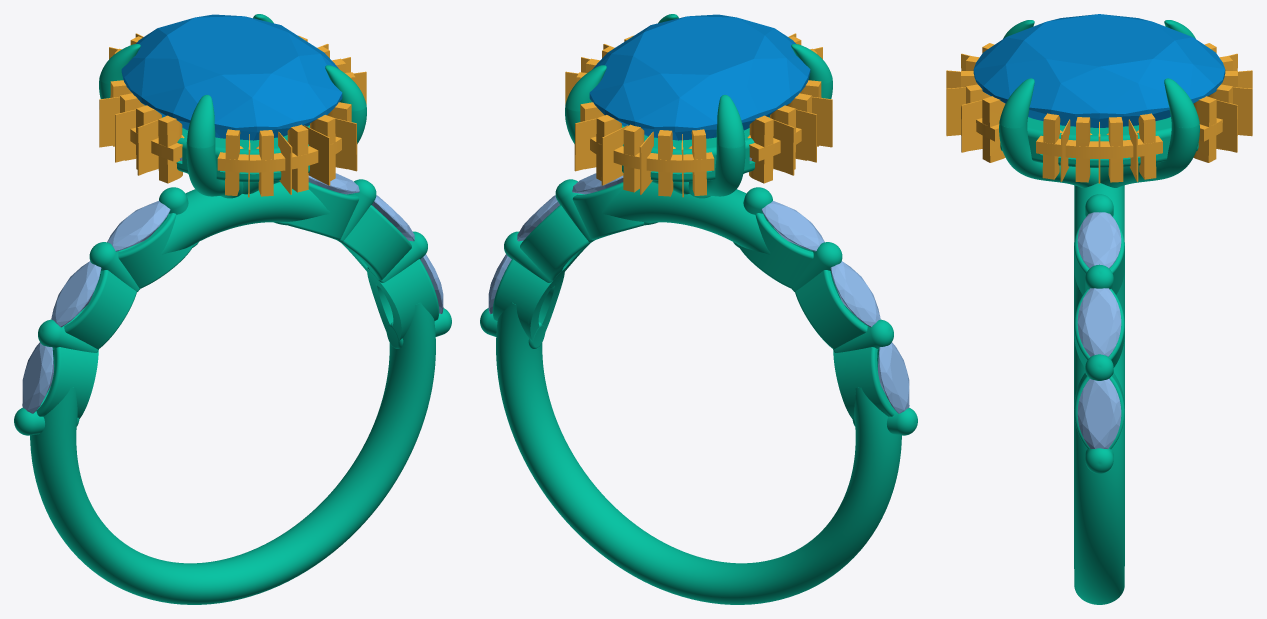
3 renders of one model, left to right at view 1: azimuth 30°, elevation 25°; view 2: azimuth 150°, elevation 25°; view 3: azimuth 270°, elevation 25°, orthographic.
Visible parts, largest first — view 1: VR553(front).3dm, Diamond_Oval, Bezel (×6), Micro Pave Cut Channel Cutter (×10), Diamond_Marquise (×4), Channel Cutter (×2); view 2: VR553(front).3dm, Diamond_Oval, Bezel (×6), Micro Pave Cut Channel Cutter (×10), Diamond_Marquise (×4), Channel Cutter (×2); view 3: VR553(front).3dm, Diamond_Oval, Micro Pave Cut Channel Cutter (×10), Diamond_Marquise (×3), Bezel (×3), Channel Cutter.
Part boxes in pixels (bbox=[...]): VR553(front).3dm: bbox=[14, 14, 451, 604]; Diamond_Oval: bbox=[121, 14, 342, 140]; Bezel (×6): bbox=[36, 182, 439, 418]; Micro Pave Cut Channel Cutter (×10): bbox=[99, 96, 357, 196]; Diamond_Marquise (×4): bbox=[22, 195, 414, 413]; Channel Cutter (×2): bbox=[130, 127, 341, 172]; VR553(front).3dm: bbox=[480, 14, 917, 604]; Diamond_Oval: bbox=[589, 14, 810, 140]; Bezel (×6): bbox=[492, 182, 895, 418]; Micro Pave Cut Channel Cutter (×10): bbox=[574, 96, 832, 196]; Diamond_Marquise (×4): bbox=[517, 195, 909, 413]; Channel Cutter (×2): bbox=[590, 127, 801, 172]; VR553(front).3dm: bbox=[999, 20, 1199, 604]; Diamond_Oval: bbox=[973, 14, 1225, 127]; Micro Pave Cut Channel Cutter (×10): bbox=[946, 87, 1252, 182]; Diamond_Marquise (×3): bbox=[1077, 212, 1121, 448]; Bezel (×3): bbox=[1074, 220, 1124, 449]; Channel Cutter: bbox=[1036, 135, 1162, 158].
Bounding box in the file's own units: 2.42 × 2.94 × 1.5.
